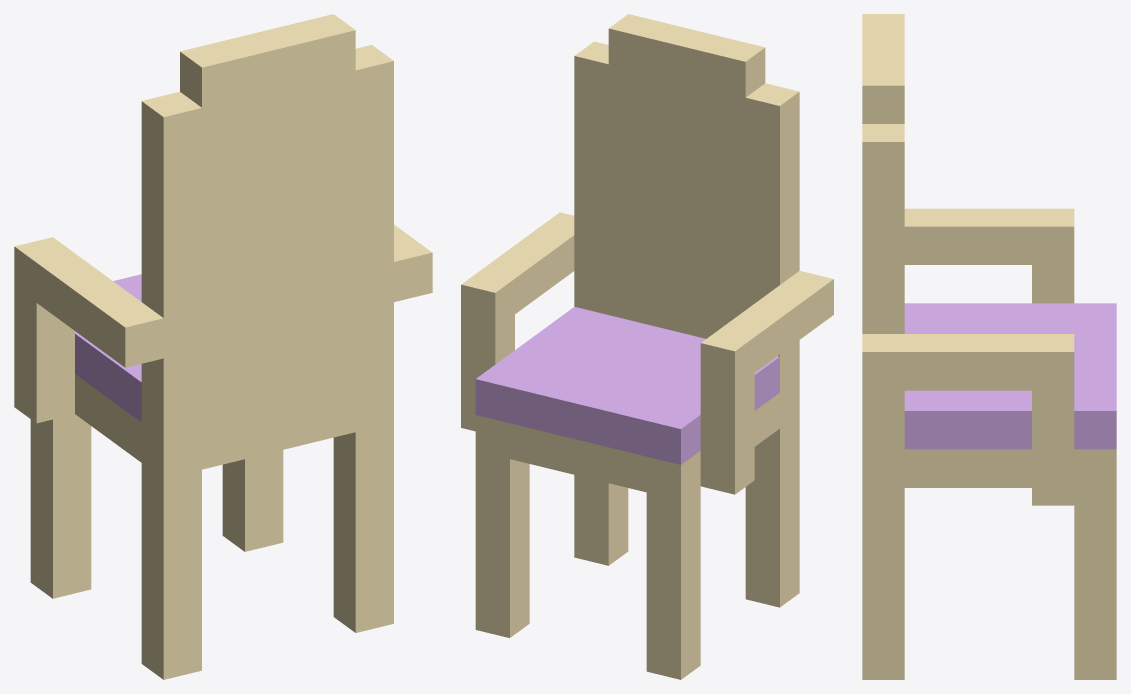
Rendered from Silla.obj.
3 renders of one model, left to right at view 1: azimuth 30°, elevation 25°; view 2: azimuth 150°, elevation 25°; view 3: azimuth 270°, elevation 25°, orthographic. The views are drawn at different scales.
Size of the model in its own units: 0.8 by 1.5 by 0.6.
Materials: 1 (1 with a texture image).
